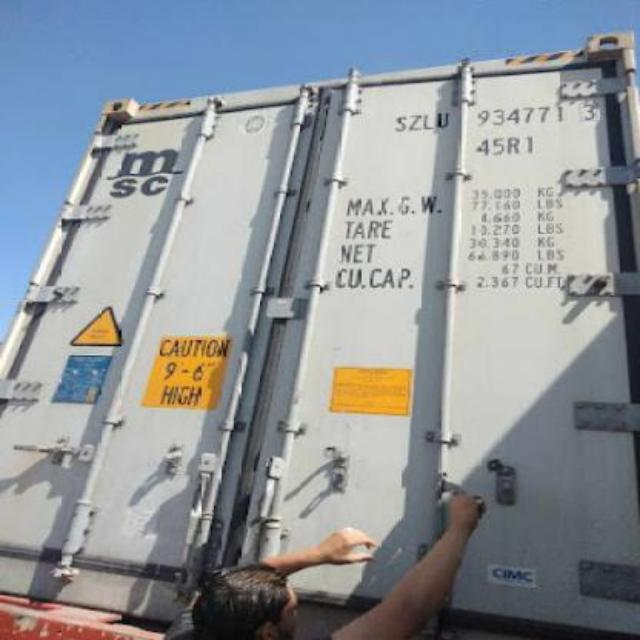1: (552, 100, 572, 130)
3: (578, 100, 600, 122), (490, 102, 506, 128)
4: (508, 100, 522, 130)
7: (532, 97, 550, 123), (520, 99, 532, 125)
9: (472, 104, 490, 128)
L: (422, 109, 434, 135)
S: (392, 112, 408, 134)
U: (434, 106, 452, 134)
Z: (408, 112, 422, 134)
